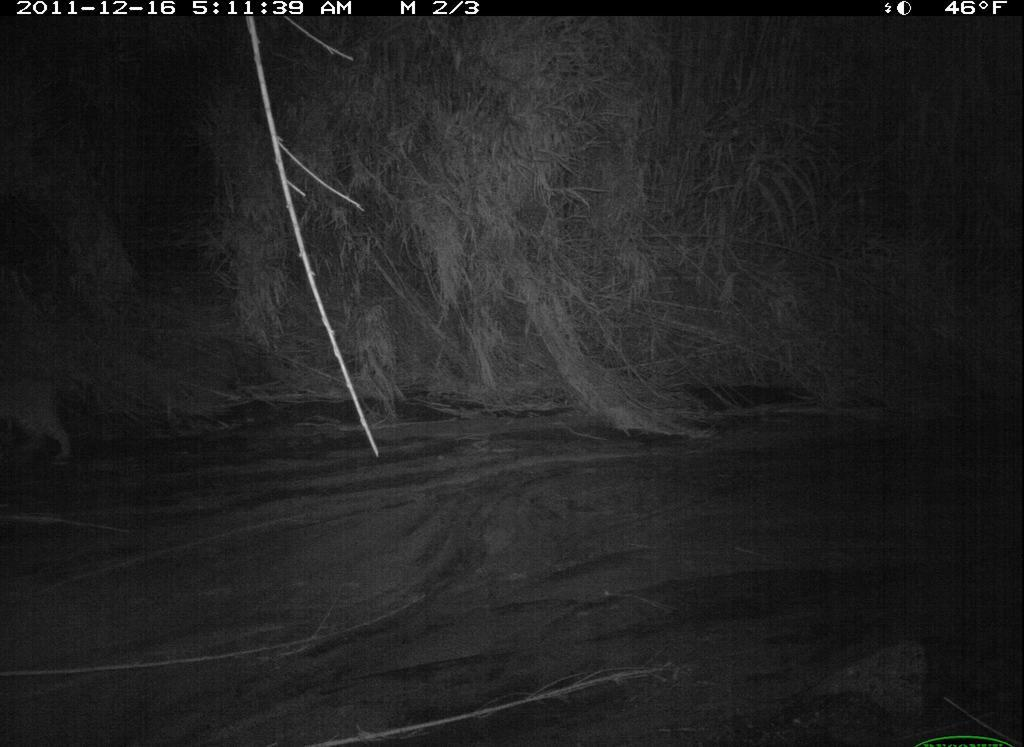bobcat: (1, 373, 86, 476)
